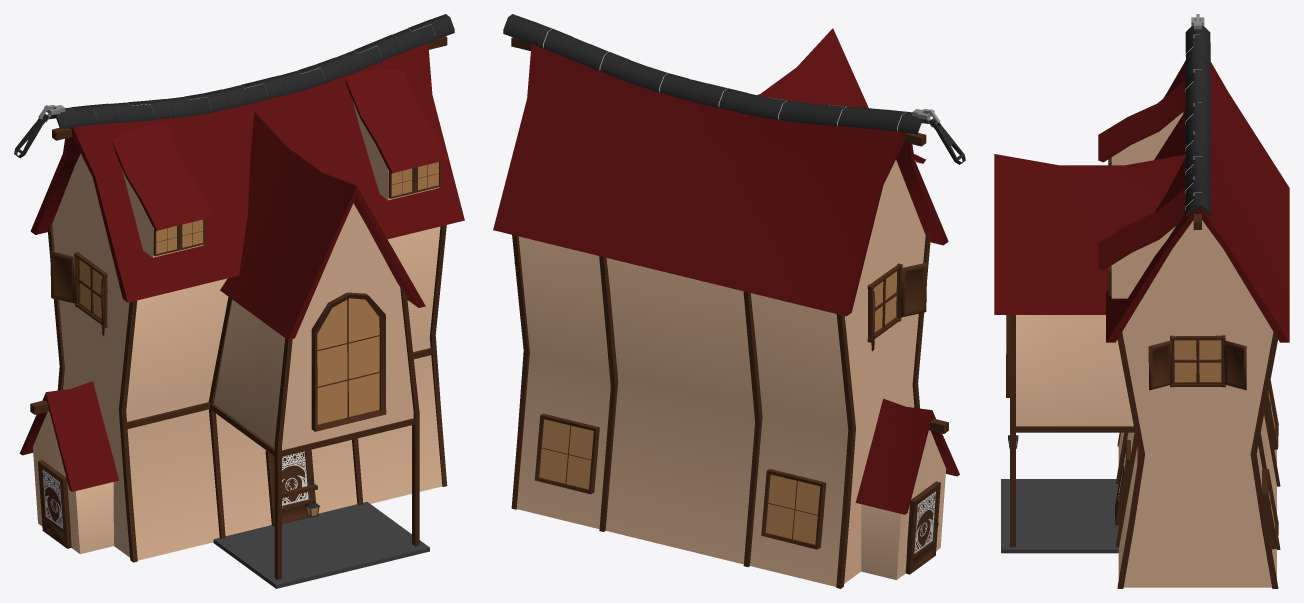
The model's file is HouseVariation.8.fbx.
3 views of the same model, side by side, from view 1: azimuth 30°, elevation 25°; view 2: azimuth 150°, elevation 25°; view 3: azimuth 270°, elevation 25° (orthographic). The views are drawn at different scales.
Visible parts, largest first — view 1: HouseVariation.8; view 2: HouseVariation.8; view 3: HouseVariation.8.
Part boxes in pixels (x1,y1,x2,y2): HouseVariation.8: (14, 14, 464, 588); HouseVariation.8: (493, 14, 965, 588); HouseVariation.8: (994, 14, 1289, 588).
Bounding box in the file's own units: 1602 × 1548 × 1006.
